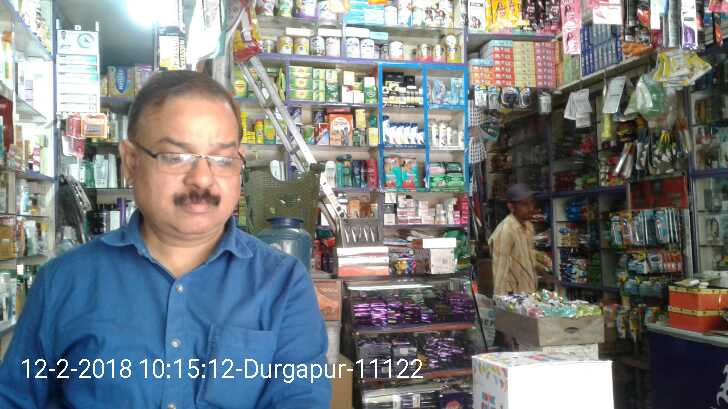gillete: (609, 211, 631, 248), (628, 309, 644, 351), (651, 254, 684, 272), (655, 209, 670, 242), (629, 253, 649, 274), (643, 276, 662, 297), (616, 303, 626, 339), (633, 210, 643, 243), (620, 278, 637, 295), (615, 251, 626, 275)
venus: (433, 80, 450, 103), (450, 77, 464, 103)
